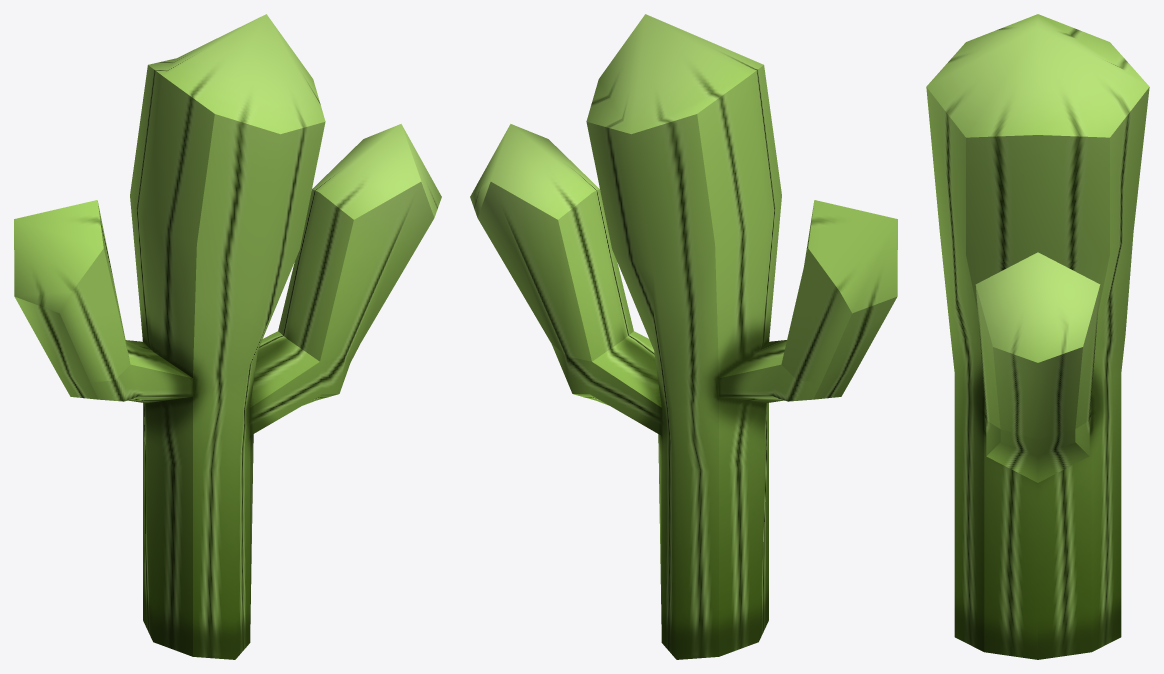
Rendered from Cactus03.fbx.
3 views of the same model, side by side, from view 1: azimuth 30°, elevation 25°; view 2: azimuth 150°, elevation 25°; view 3: azimuth 270°, elevation 25° (orthographic). The views are drawn at different scales.
Parts seen in each view (by area): view 1: Cactus03; view 2: Cactus03; view 3: Cactus03.
Boxes of the visible parts, x1,y1,x2,y2 form: Cactus03: (14,14,441,659); Cactus03: (470,14,897,659); Cactus03: (926,14,1149,659).
Bounding box in the file's own units: 4.93 × 6.61 × 2.07.
